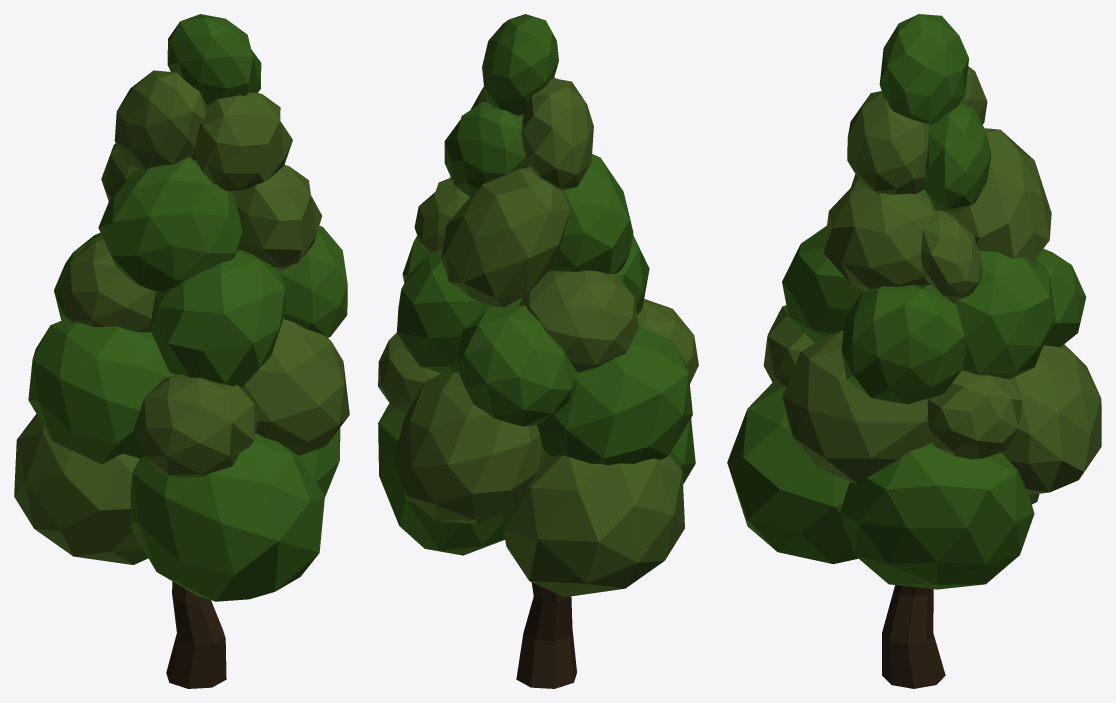
The model's file is Poplar_Tree.obj.
The picture shows the model from 3 angles, left to right: view 1: azimuth 30°, elevation 25°; view 2: azimuth 150°, elevation 25°; view 3: azimuth 270°, elevation 25°; orthographic projection. The views are drawn at different scales.
Visible parts, largest first — view 1: Poplar_Cylinder.003; view 2: Poplar_Cylinder.003; view 3: Poplar_Cylinder.003.
Part boxes in pixels (x1,y1,x2,y2): Poplar_Cylinder.003: (14, 14, 349, 688); Poplar_Cylinder.003: (378, 14, 698, 688); Poplar_Cylinder.003: (727, 14, 1101, 688).
Bounding box in the file's own units: 2.69 × 5.82 × 2.96.
